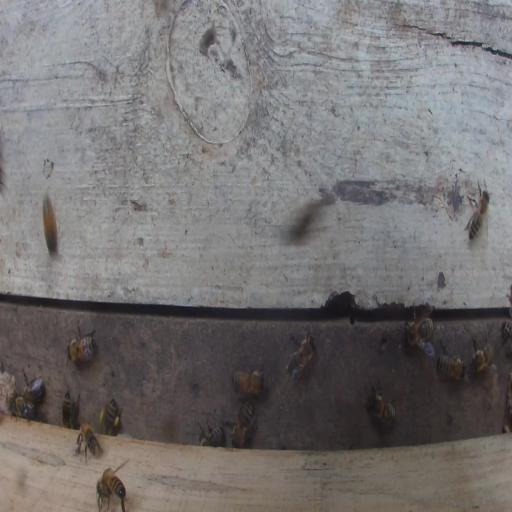nonpollenbee: (96, 467, 126, 511), (288, 334, 314, 380), (42, 193, 58, 265), (229, 402, 252, 449), (367, 390, 396, 427), (469, 189, 489, 239), (74, 422, 97, 460), (230, 369, 264, 394), (437, 355, 466, 380), (406, 317, 434, 342), (67, 336, 95, 361), (9, 396, 35, 419), (472, 344, 494, 369), (19, 381, 44, 402), (501, 320, 512, 355), (62, 390, 72, 428), (204, 427, 222, 448)
pollenbee: (99, 398, 120, 436)
